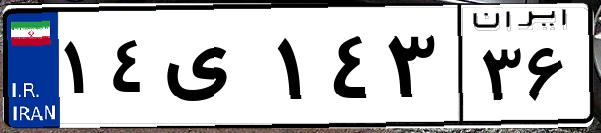1: (270, 28, 330, 110), (57, 26, 110, 100)
3: (385, 28, 445, 110), (475, 38, 525, 113)
4: (330, 28, 385, 110), (110, 28, 158, 98)
6: (525, 38, 570, 115)
ی: (158, 20, 270, 120)
